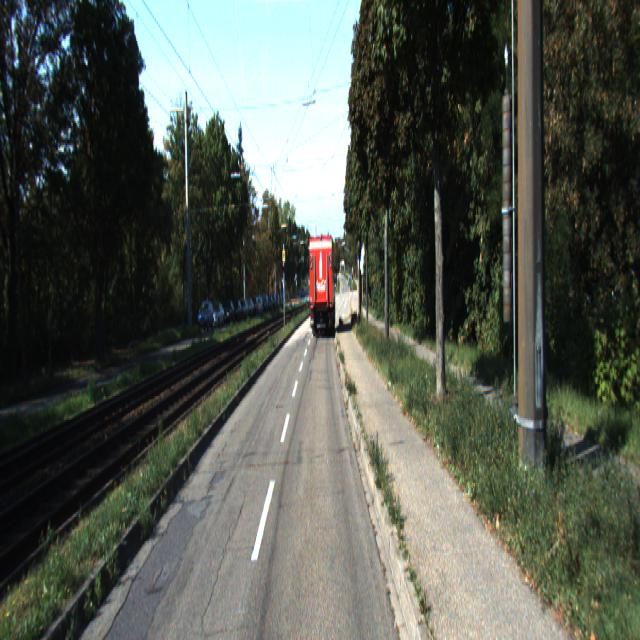Car: (308, 236, 337, 342), (197, 301, 214, 334)
